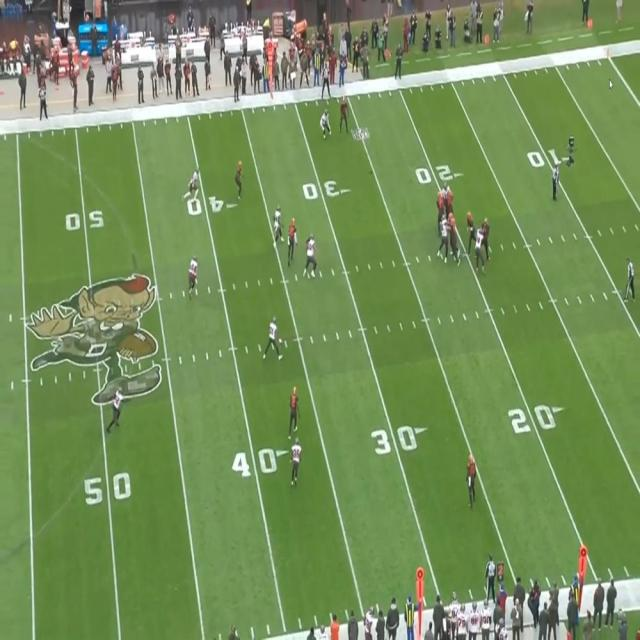db: (288, 437, 303, 484), (110, 385, 124, 427), (267, 315, 278, 356), (188, 169, 198, 198), (323, 107, 332, 137)
lb: (188, 259, 200, 298), (274, 204, 285, 243), (306, 236, 316, 276)
qb: (464, 213, 476, 236)
skill: (288, 384, 300, 434), (469, 451, 478, 503), (288, 216, 298, 258), (235, 160, 243, 200), (341, 98, 351, 125)
